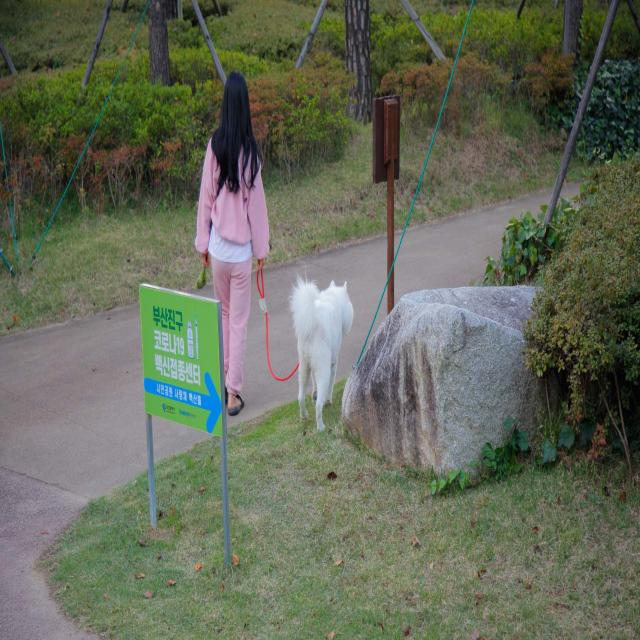Leashed_Dog: (228, 259, 354, 430)
